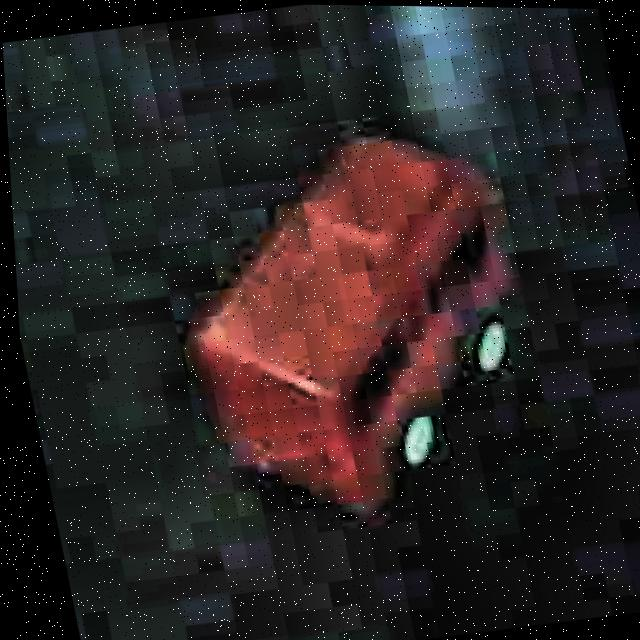bus: (145, 103, 571, 538)
